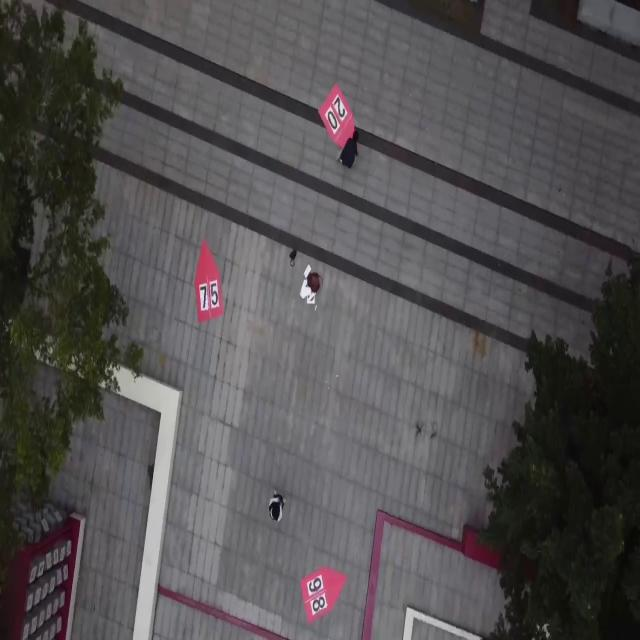-sign-: (0, 507, 86, 637), (402, 606, 487, 640), (318, 82, 356, 150), (301, 566, 345, 623), (194, 238, 223, 322)
